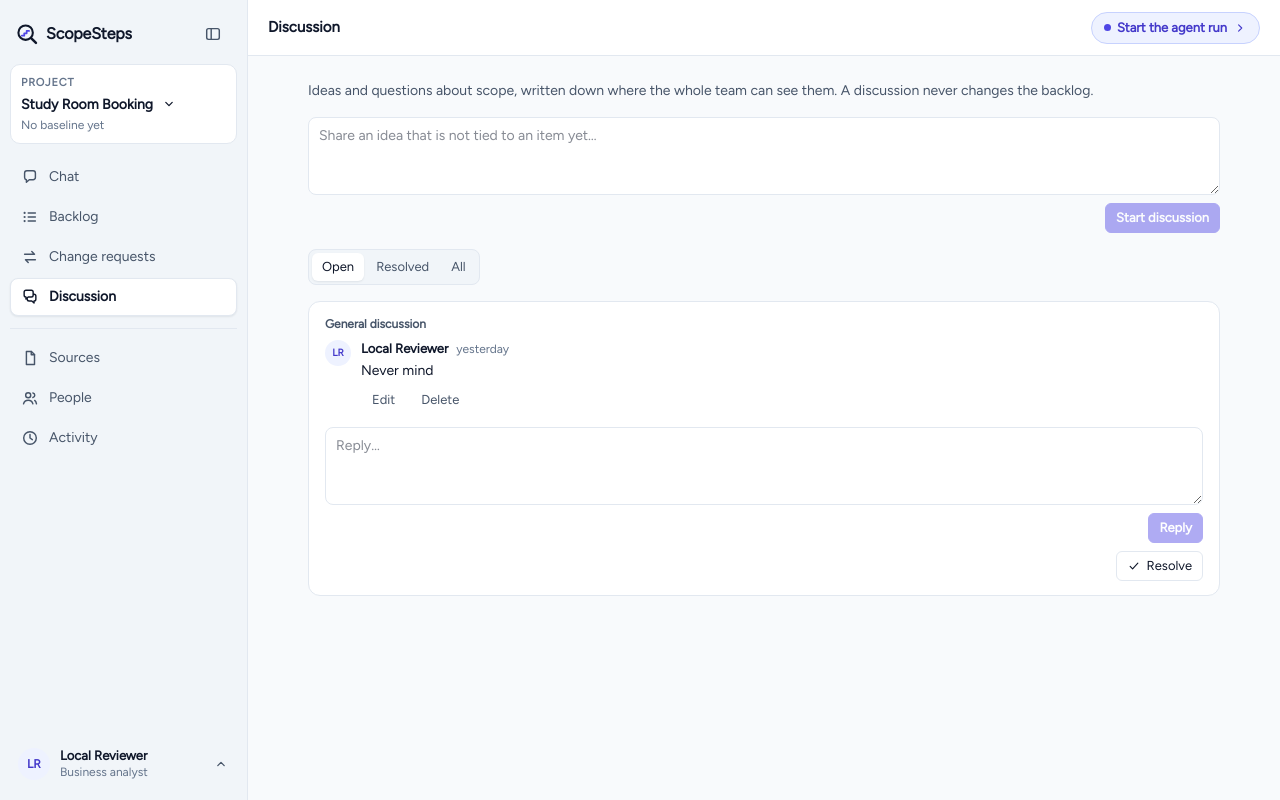
The Discussion page › deletes the author’s comment only after they confirm
Click the button "Delete" at (440, 400), box x1=410 y1=385 x2=470 y2=415
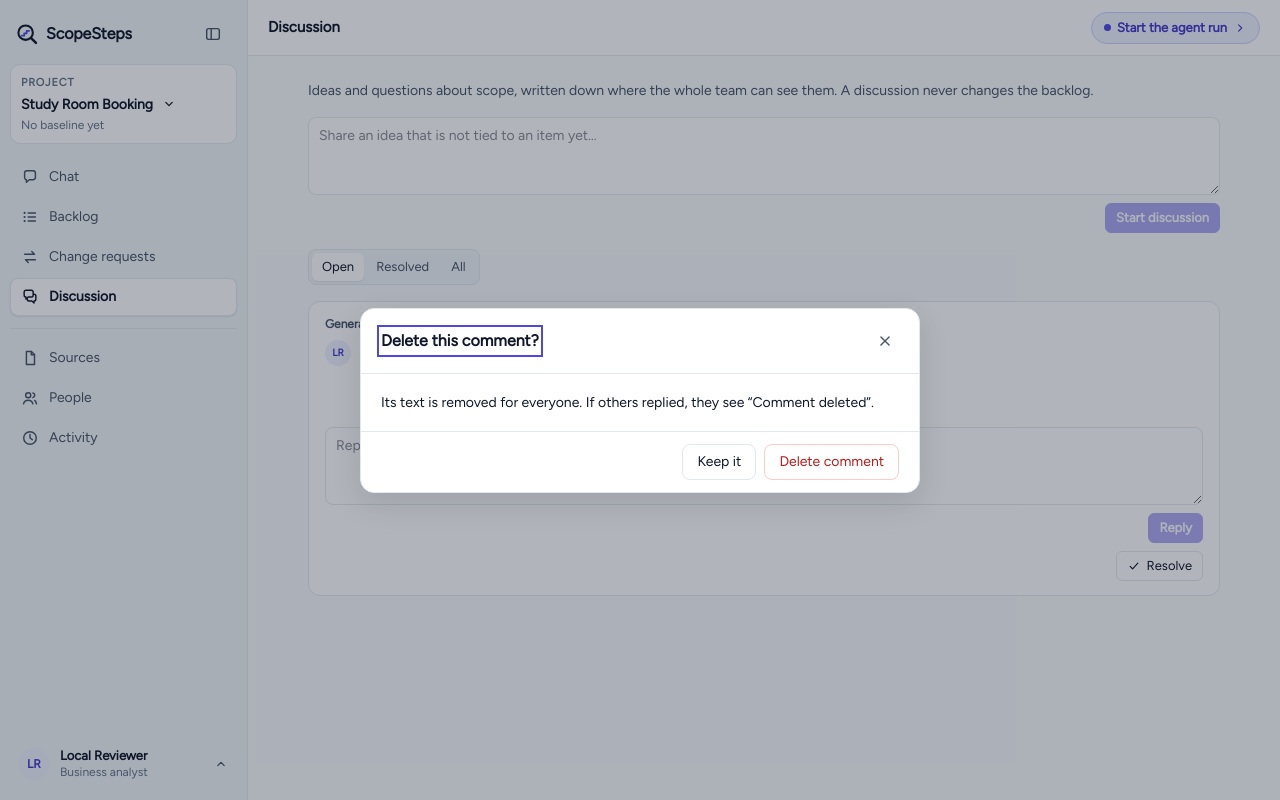
Click the button "Keep it" at (719, 462), box x1=682 y1=444 x2=756 y2=480
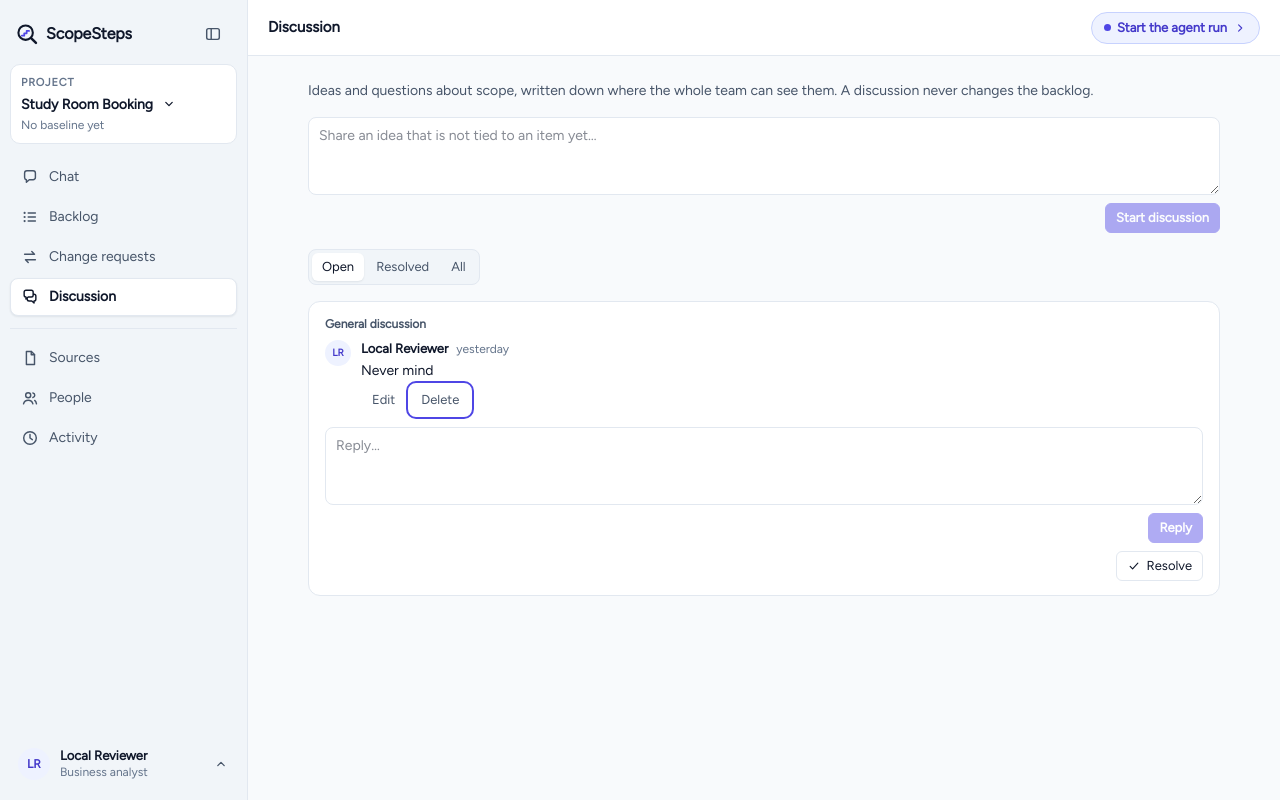
Check: the text "Never mind" is shown, box x1=361 y1=362 x2=433 y2=379
Click the button "Delete" at (440, 400), box x1=410 y1=385 x2=470 y2=415
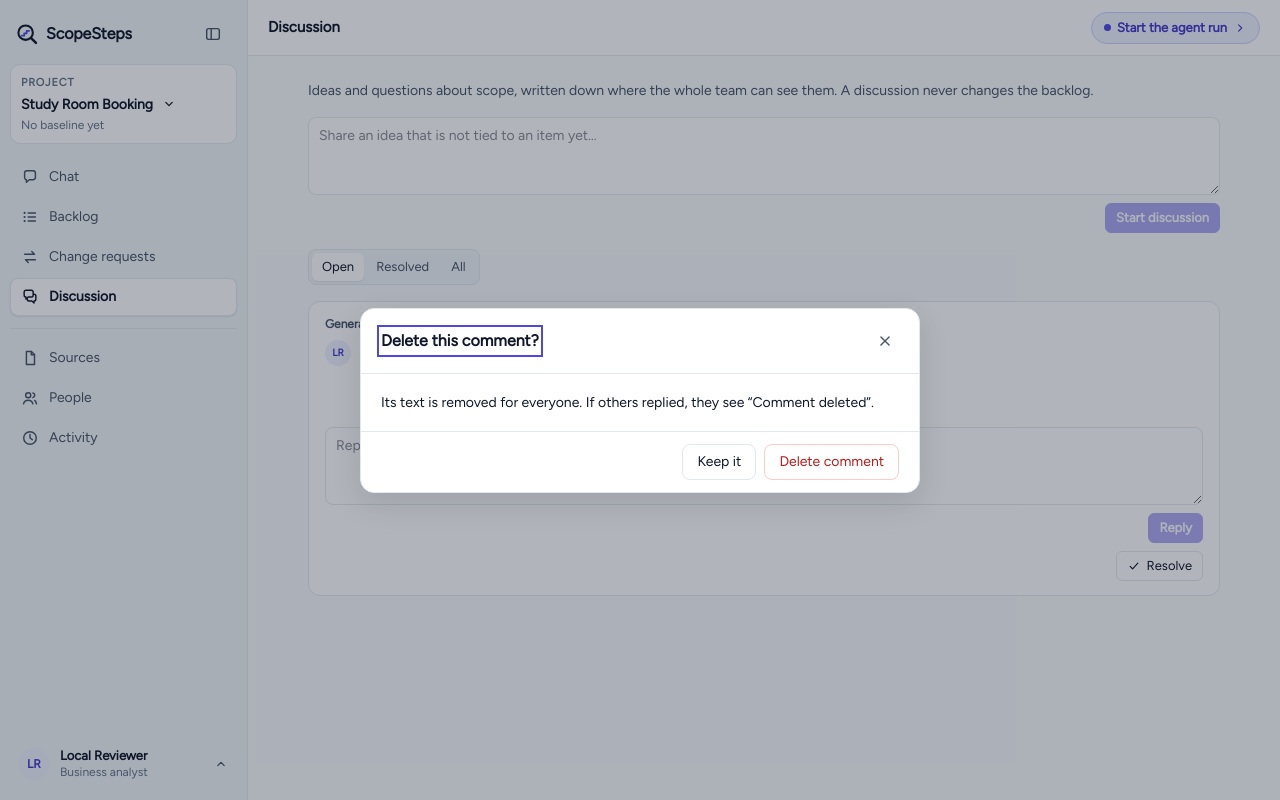
Click the button "Delete comment" at (832, 462), box x1=764 y1=444 x2=899 y2=480
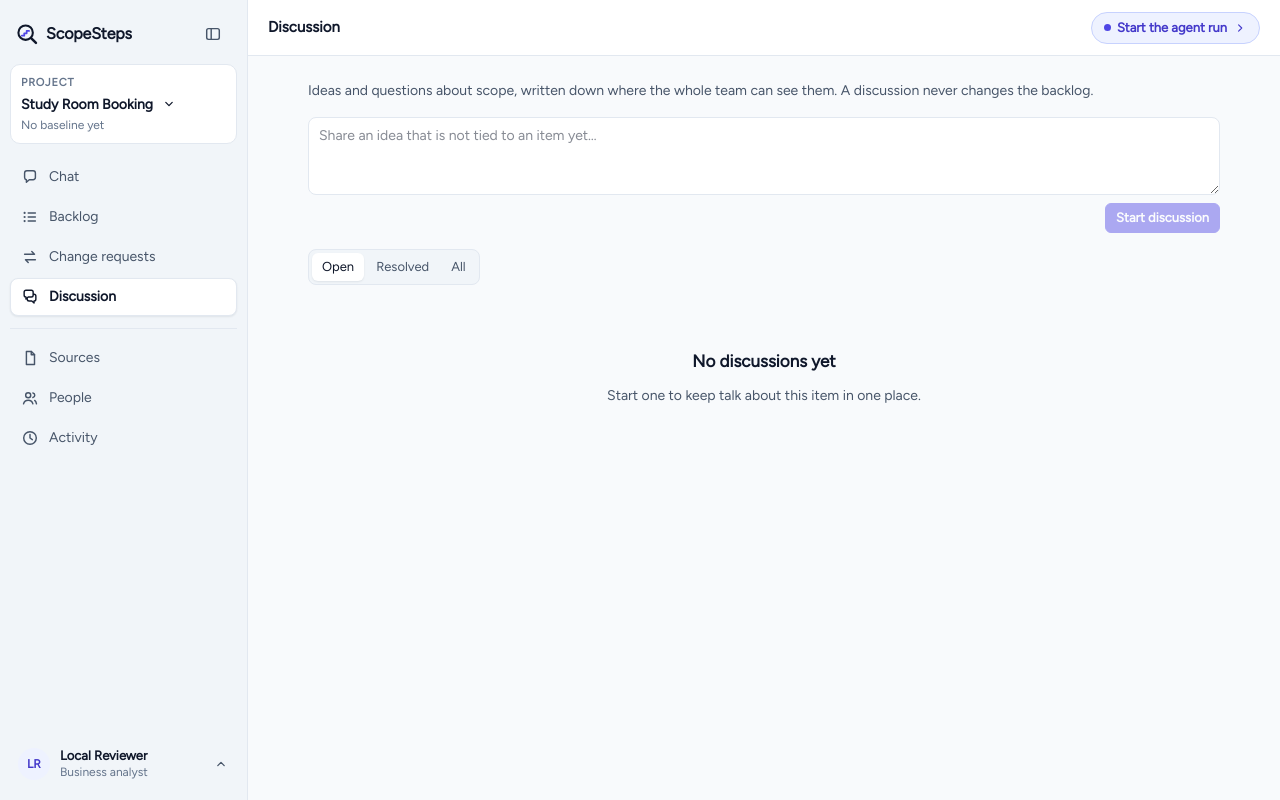
Check: the heading "No discussions yet" is shown, box x1=692 y1=349 x2=836 y2=374
